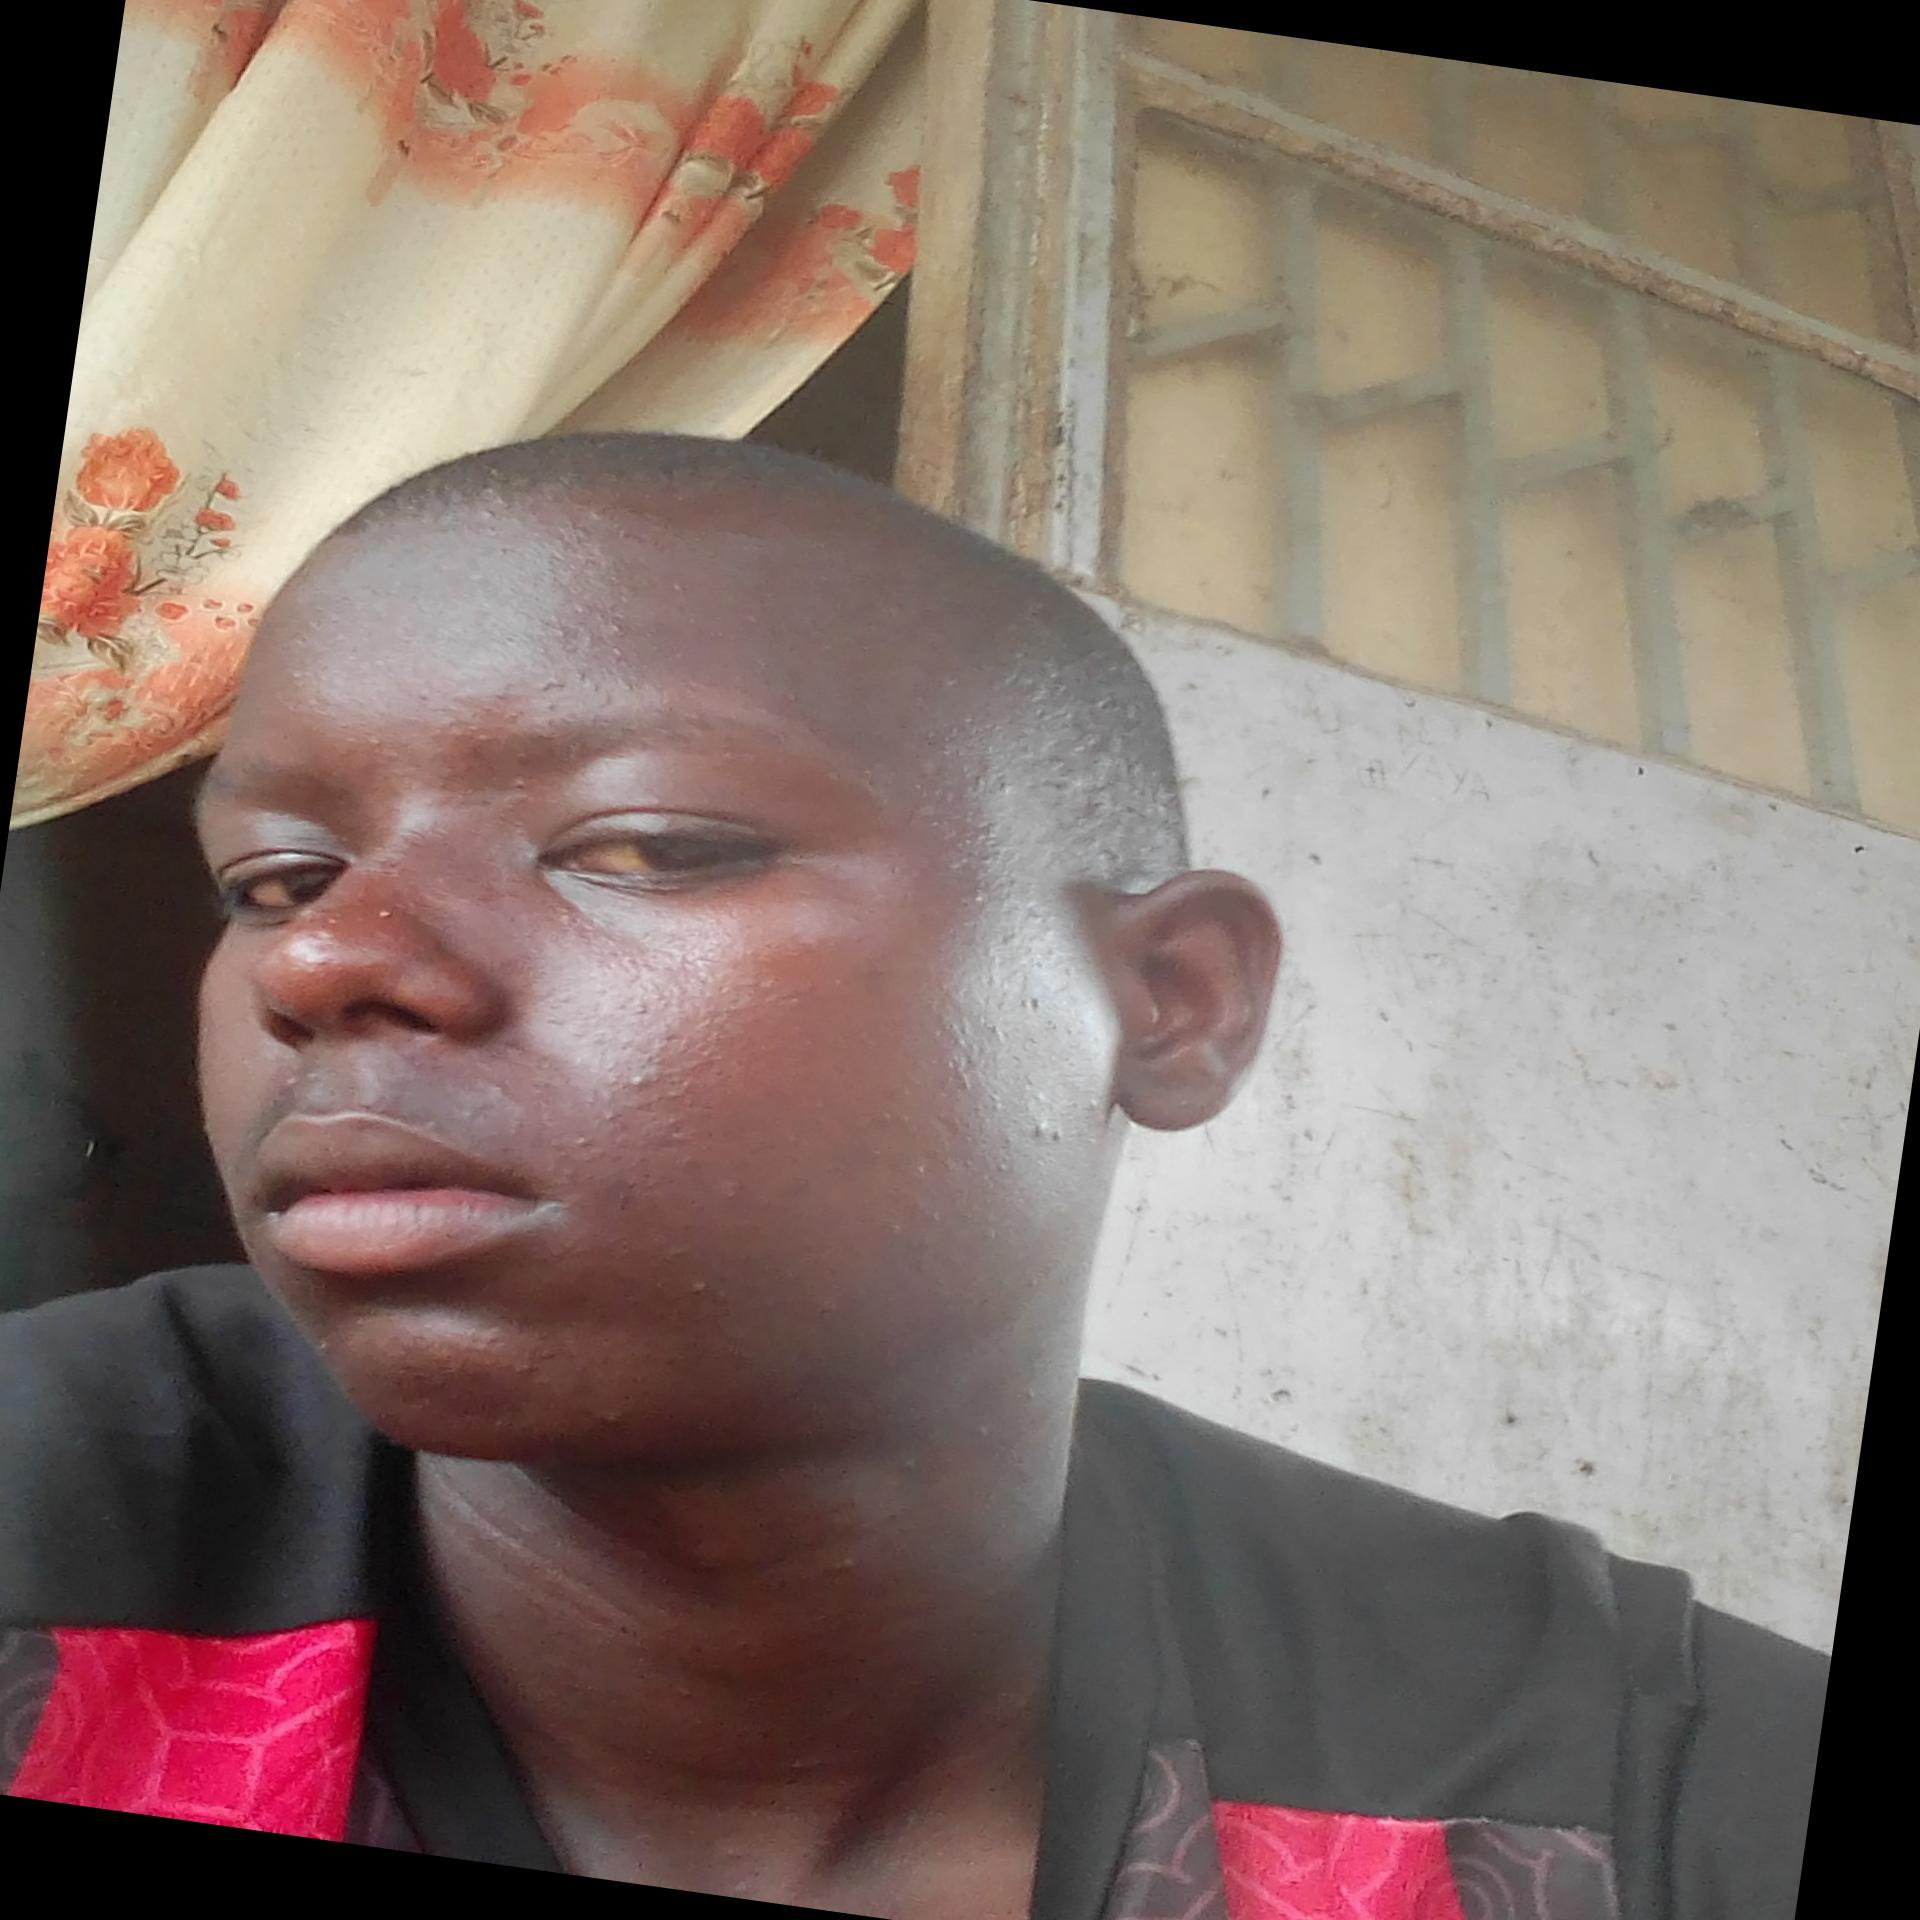Acne: (443, 693, 522, 753), (1020, 1113, 1074, 1150), (964, 770, 1023, 802), (707, 1173, 758, 1210), (478, 1073, 522, 1104), (619, 1064, 651, 1097), (905, 1155, 937, 1183), (531, 675, 568, 698), (373, 900, 404, 925), (682, 1282, 721, 1301), (566, 1131, 600, 1152), (626, 999, 654, 1020), (281, 1069, 308, 1090), (600, 1108, 621, 1124)
